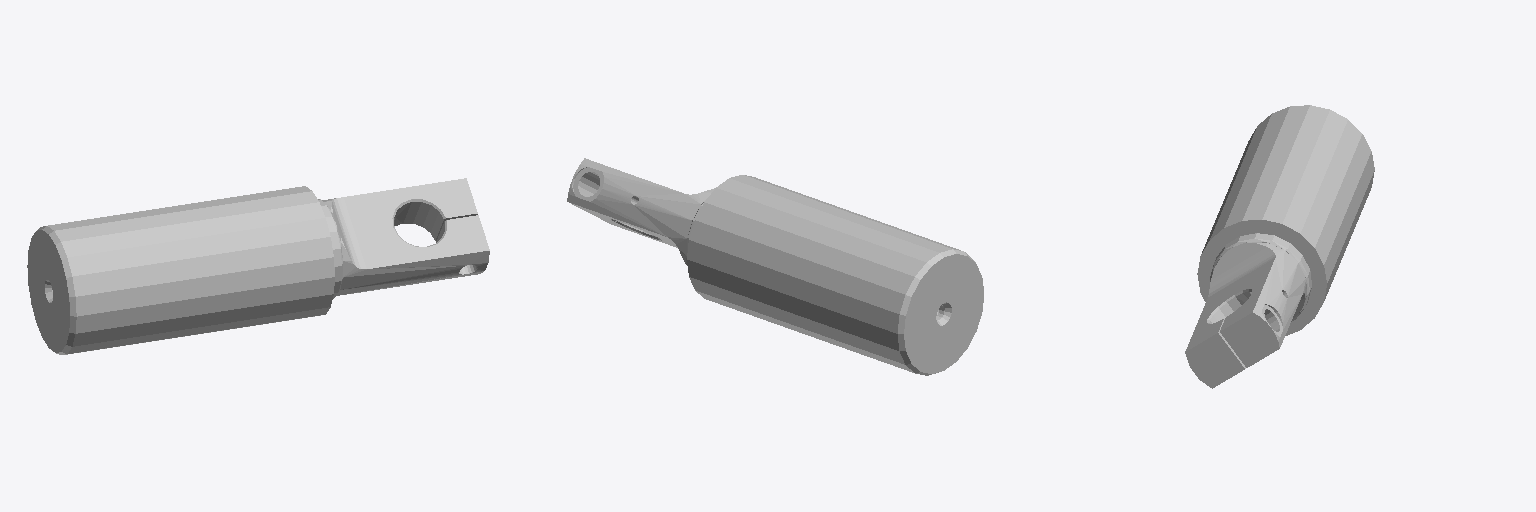
The model's file is ActuatorBottomLeft.obj.
3 renders of one model, left to right at view 1: azimuth 30°, elevation 25°; view 2: azimuth 150°, elevation 25°; view 3: azimuth 270°, elevation 25°, orthographic.
Visible parts, largest first — view 1: 1300_derived_Shaft.stp; view 2: 1300_derived_Shaft.stp; view 3: 1300_derived_Shaft.stp.
Boxes of the visible parts, x1=… form: 1300_derived_Shaft.stp: x1=27, y1=178, x2=489, y2=354; 1300_derived_Shaft.stp: x1=567, y1=158, x2=983, y2=375; 1300_derived_Shaft.stp: x1=1185, y1=105, x2=1374, y2=388.
Bounding box in the file's own units: 0.2466 × 0.07 × 0.1008.